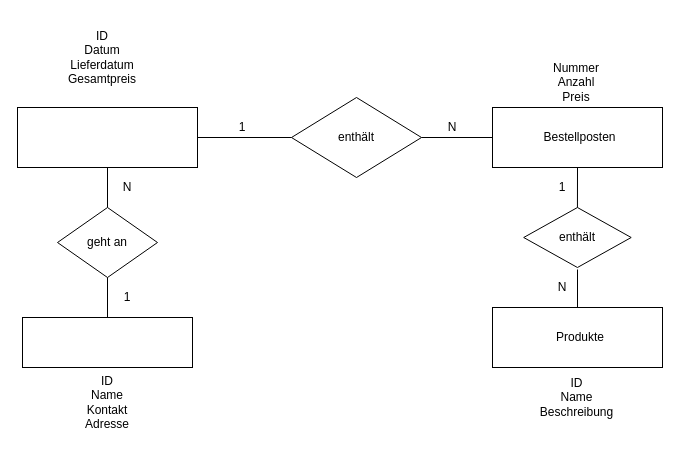
Image size: 680x454. Some labels were removed from this diagram. Here are the shapes that lost their labels. From the top down, the centre of each, then its label:
[107,137]: Bestellung
[107,342]: Lieferant
